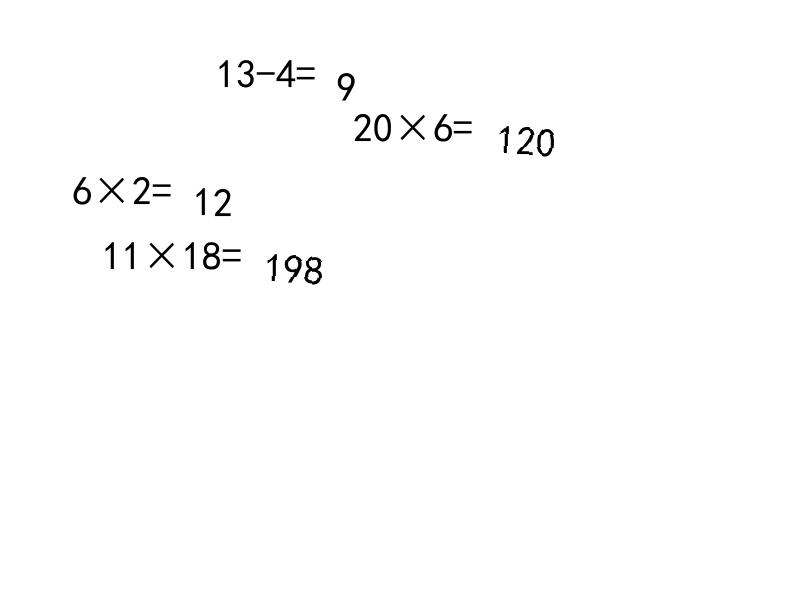-: (256, 53, 276, 82)
0: (373, 107, 393, 137), (523, 107, 543, 137)
1: (483, 107, 503, 137), (216, 53, 236, 82), (182, 170, 202, 199), (102, 235, 122, 263), (122, 235, 142, 263), (182, 235, 202, 263), (252, 235, 272, 263)
2: (353, 107, 373, 137), (503, 107, 523, 137), (132, 170, 152, 199), (202, 170, 222, 199)
3: (236, 53, 256, 82)
4: (276, 53, 296, 82)
6: (433, 107, 453, 137), (72, 170, 92, 199)
8: (202, 235, 222, 263), (292, 235, 312, 263)
9: (326, 53, 346, 82), (272, 235, 292, 263)
=: (453, 107, 473, 137), (296, 53, 316, 82), (152, 170, 172, 199), (222, 235, 242, 263)
×: (393, 107, 433, 137), (92, 170, 132, 199), (142, 235, 182, 263)
